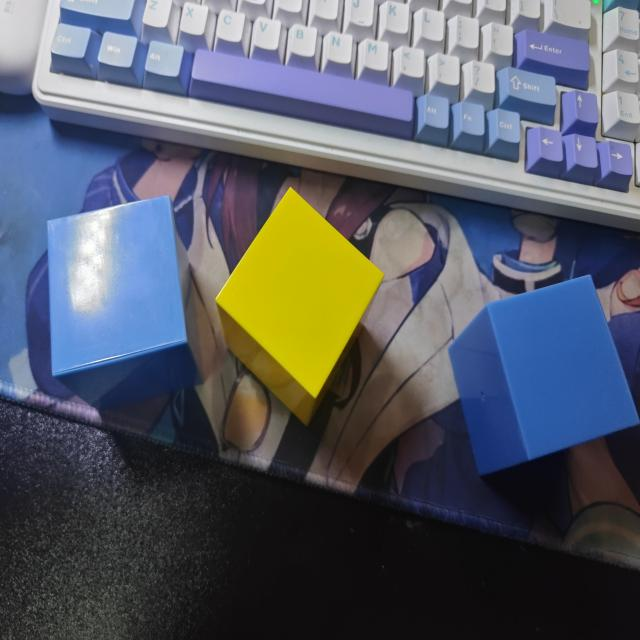blue: (446, 275, 640, 477), (46, 195, 206, 420)
yellow: (215, 188, 382, 429)
